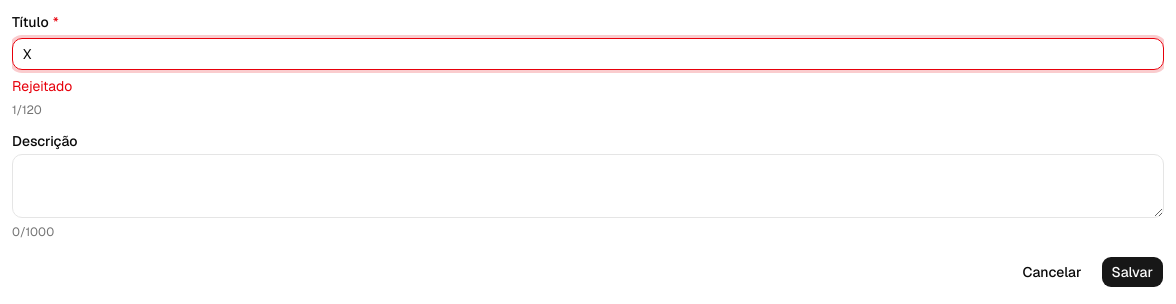
TarefaForm › erro do servidor some ao corrigir o campo
Earlier steps of the test are not shown.
Expected: the text "Rejeitado" is shown, [12,77,72,95]
Type "y" into the field labelled "Título".
click(588, 54); type("y")  # box [12,38,1164,70]
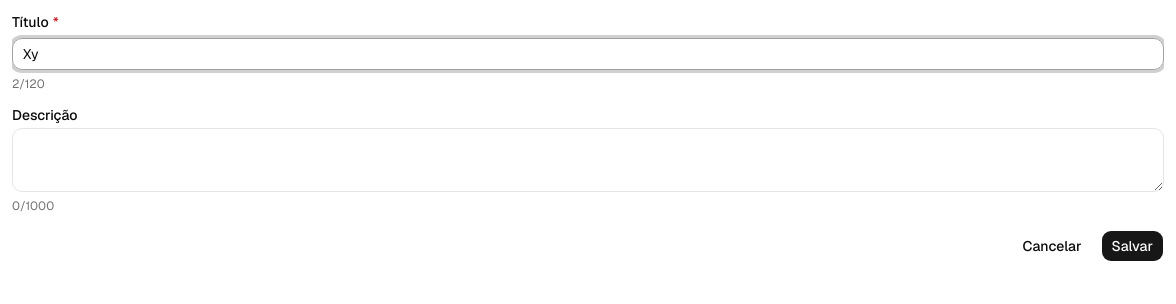
Expected: the text "Rejeitado" is gone
